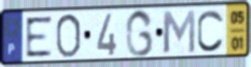4: (95, 12, 119, 57)
C: (196, 8, 225, 54)
E: (24, 14, 55, 59)
G: (124, 8, 155, 59)
M: (160, 8, 197, 55)
O: (54, 12, 83, 60)
